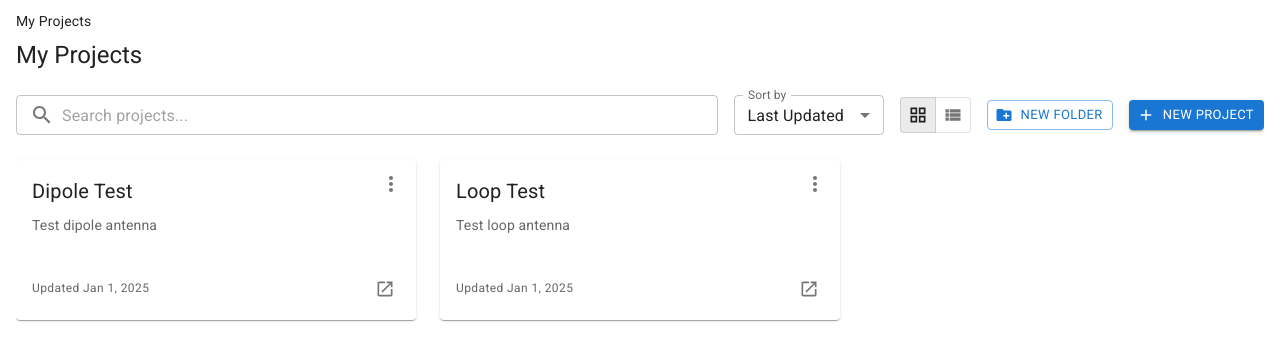
Test: ProjectsPage › should filter projects by search query
Expected: the heading "Dipole Test" is shown, [32,179,133,203]
Expected: the heading "Loop Test" is shown, [456,179,545,203]
# Search for "dipole"
In the field with placeholder "Search projects...": (390, 115) [62,95,718,135], type "dipole"
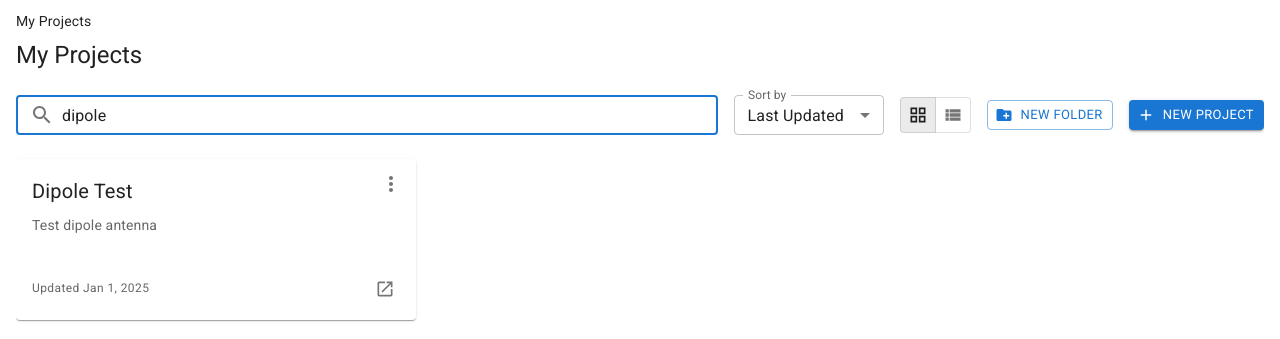
Expected: the heading "Dipole Test" is shown, [32,179,133,203]
Result: the heading "Loop Test" is gone
